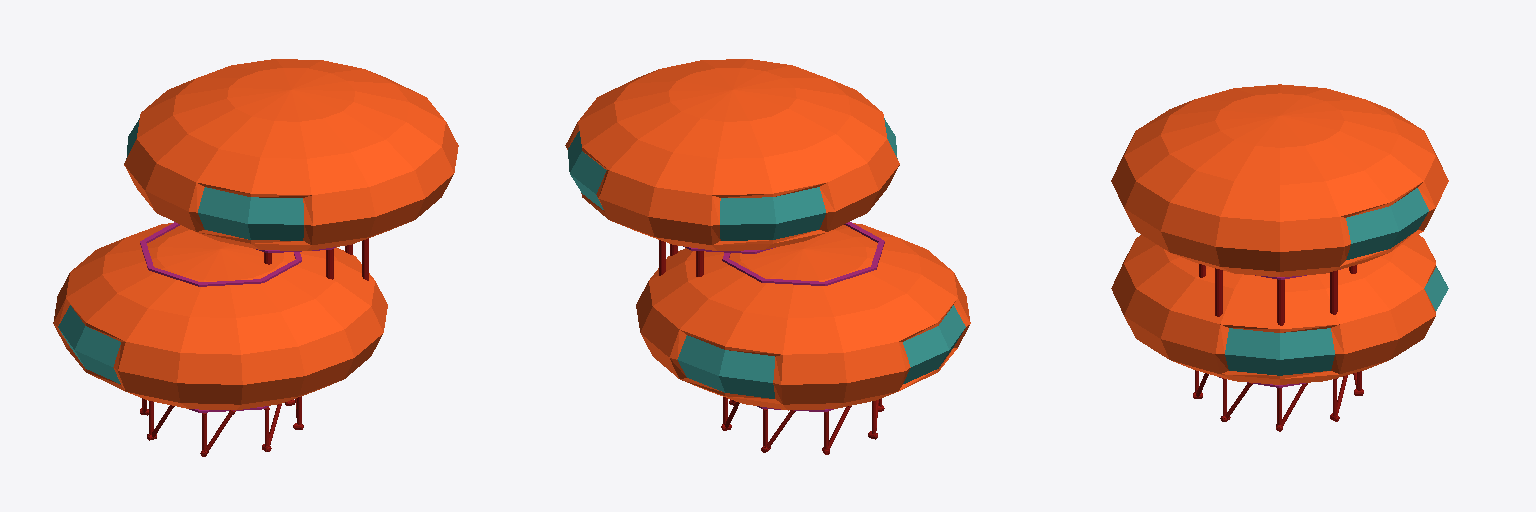
Rendered from House_02.obj.
3 renders of one model, left to right at view 1: azimuth 30°, elevation 25°; view 2: azimuth 150°, elevation 25°; view 3: azimuth 270°, elevation 25°, orthographic.
Parts seen in each view (by area): view 1: polySurface9, polySurface5, polySurface4 polySurface12, polySurface1 polySurface8, SUPPORT_BEAMS, SUPPORT_BRACE1, SUPPORT; view 2: polySurface9, polySurface5, polySurface1 polySurface8, SUPPORT_BEAMS, polySurface10 polySurface4, SUPPORT_BRACE1; view 3: polySurface9, polySurface5, polySurface6 polySurface1, polySurface10 polySurface4, SUPPORT_BEAMS, SUPPORT.
Boxes of the visible parts, x1,y1,x2,y2 form: polySurface9: [124, 59, 458, 250]; polySurface5: [53, 223, 387, 410]; polySurface4 polySurface12: [198, 187, 303, 240]; polySurface1 polySurface8: [58, 305, 120, 383]; SUPPORT_BEAMS: [140, 396, 303, 456]; SUPPORT_BRACE1: [140, 222, 301, 286]; SUPPORT: [264, 238, 368, 280]; polySurface9: [565, 59, 899, 250]; polySurface5: [636, 223, 970, 410]; polySurface1 polySurface8: [903, 305, 965, 383]; SUPPORT_BEAMS: [721, 397, 884, 454]; polySurface10 polySurface4: [568, 131, 606, 209]; SUPPORT_BRACE1: [722, 222, 884, 285]; polySurface9: [1111, 84, 1448, 276]; polySurface5: [1111, 235, 1448, 384]; polySurface6 polySurface1: [1225, 328, 1334, 375]; polySurface10 polySurface4: [1346, 188, 1428, 259]; SUPPORT_BEAMS: [1193, 370, 1363, 431]; SUPPORT: [1199, 264, 1356, 325].
Bounding box in the file's own units: 22.36 × 18.55 × 18.01.